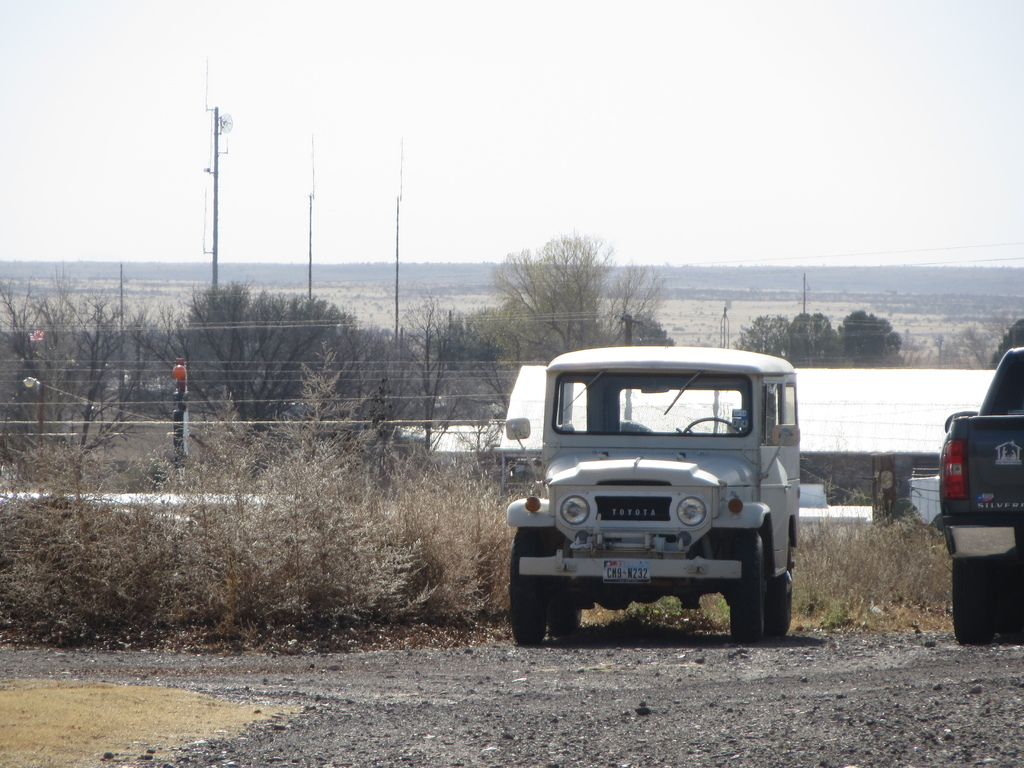car: (482, 316, 824, 650), (908, 335, 1024, 650)
